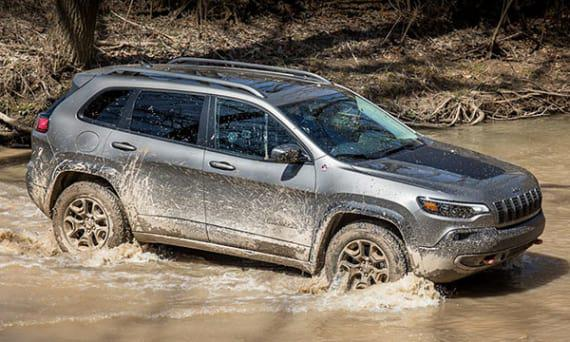car: (25, 50, 552, 297)
